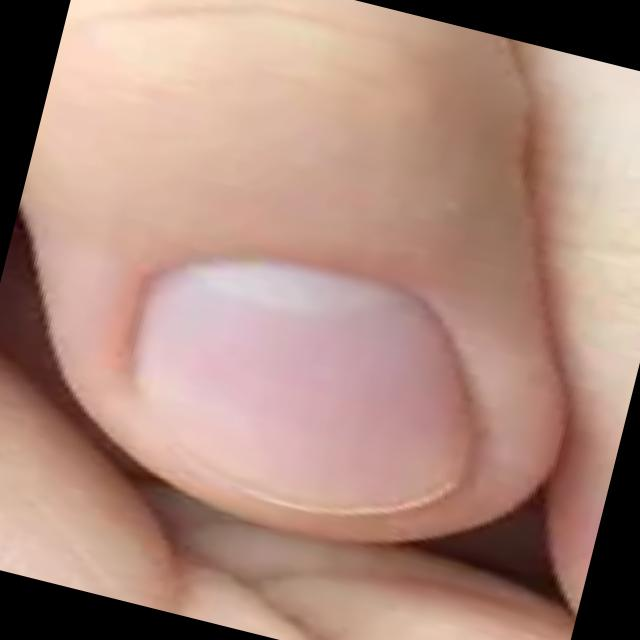Nail: (133, 258, 469, 512)
